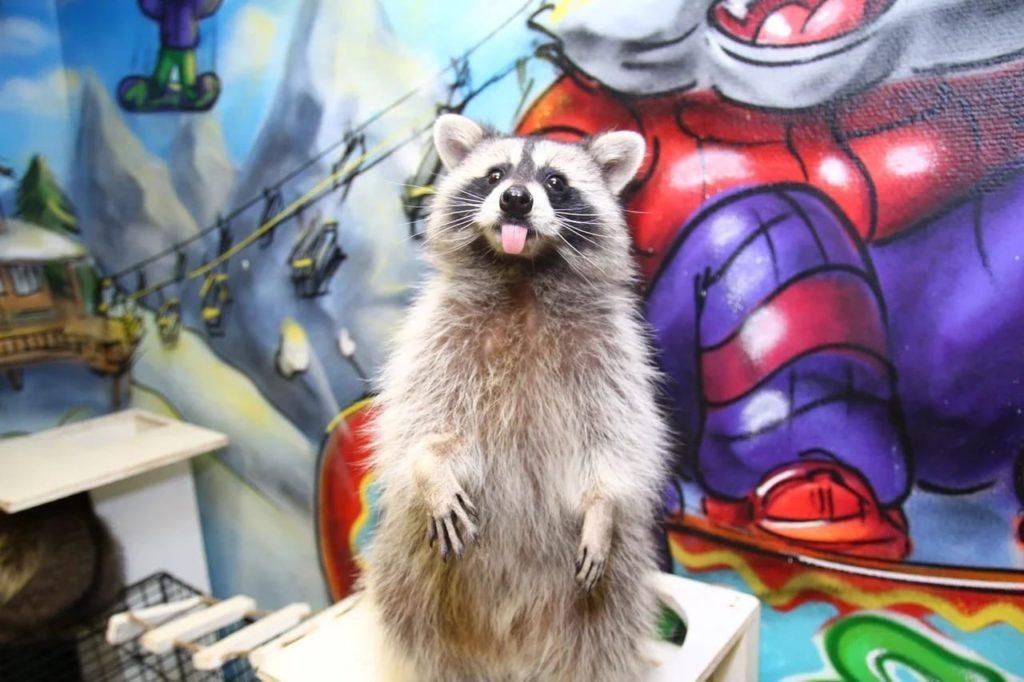raccoon: (367, 117, 675, 682)
